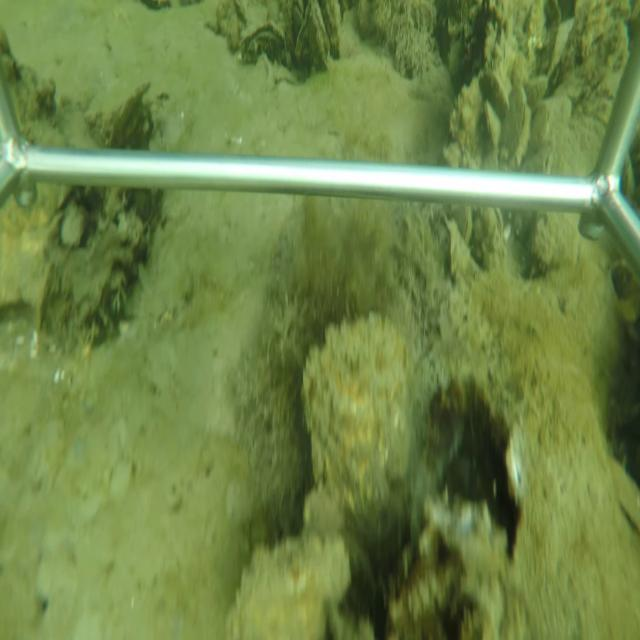Oyster-Closed: (496, 80, 532, 171), (313, 3, 332, 70), (482, 95, 503, 152), (294, 2, 313, 63)
Oyster-Indeterminate: (301, 306, 409, 535)
Oyster-Open: (234, 20, 291, 65)
